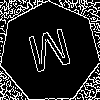M: (24, 27, 77, 83)
